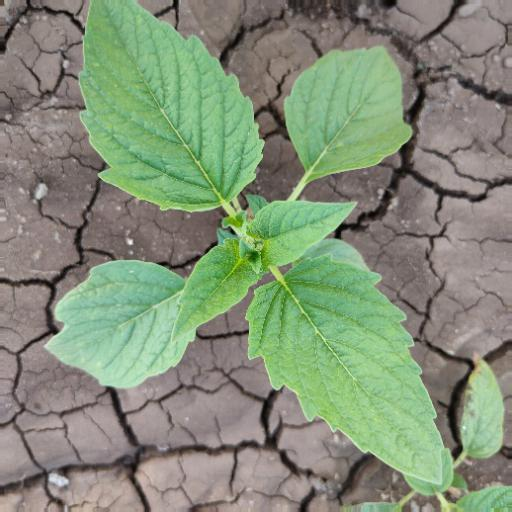weed: (47, 2, 464, 493)
